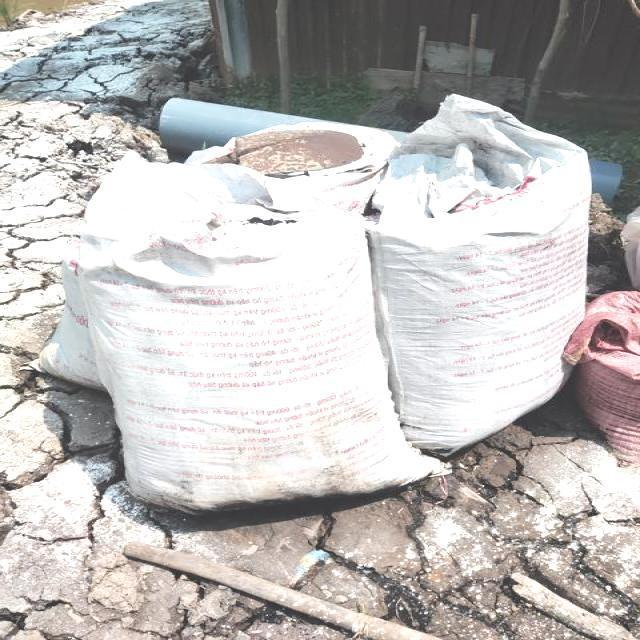gunny_bag: (80, 154, 435, 512), (369, 94, 592, 452)
